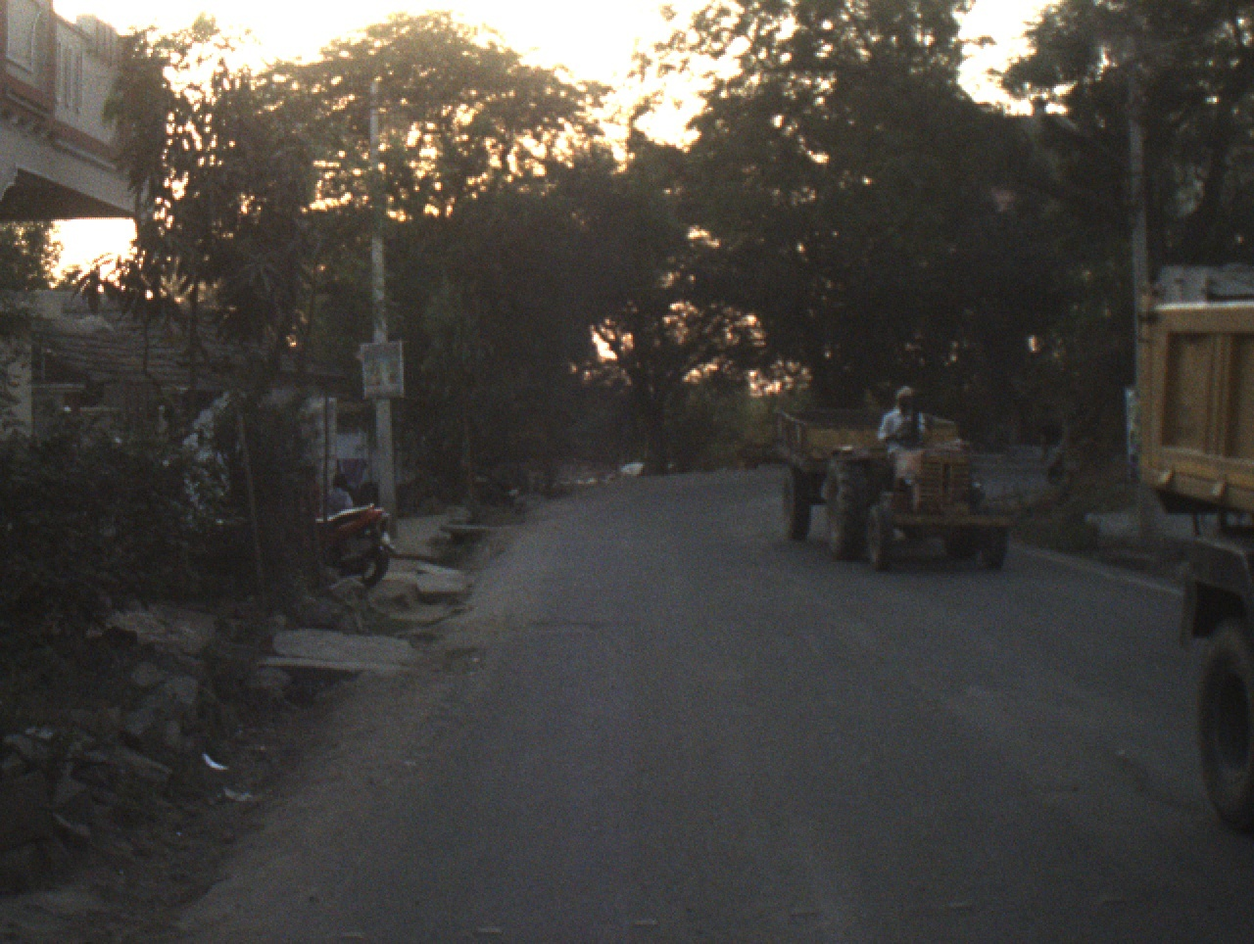motorcycle: (303, 497, 388, 591), (314, 504, 399, 567)
person: (323, 472, 354, 517)
rider: (878, 386, 923, 472)
truck: (1134, 274, 1254, 848)
vehicle fallback: (773, 379, 1027, 581)
